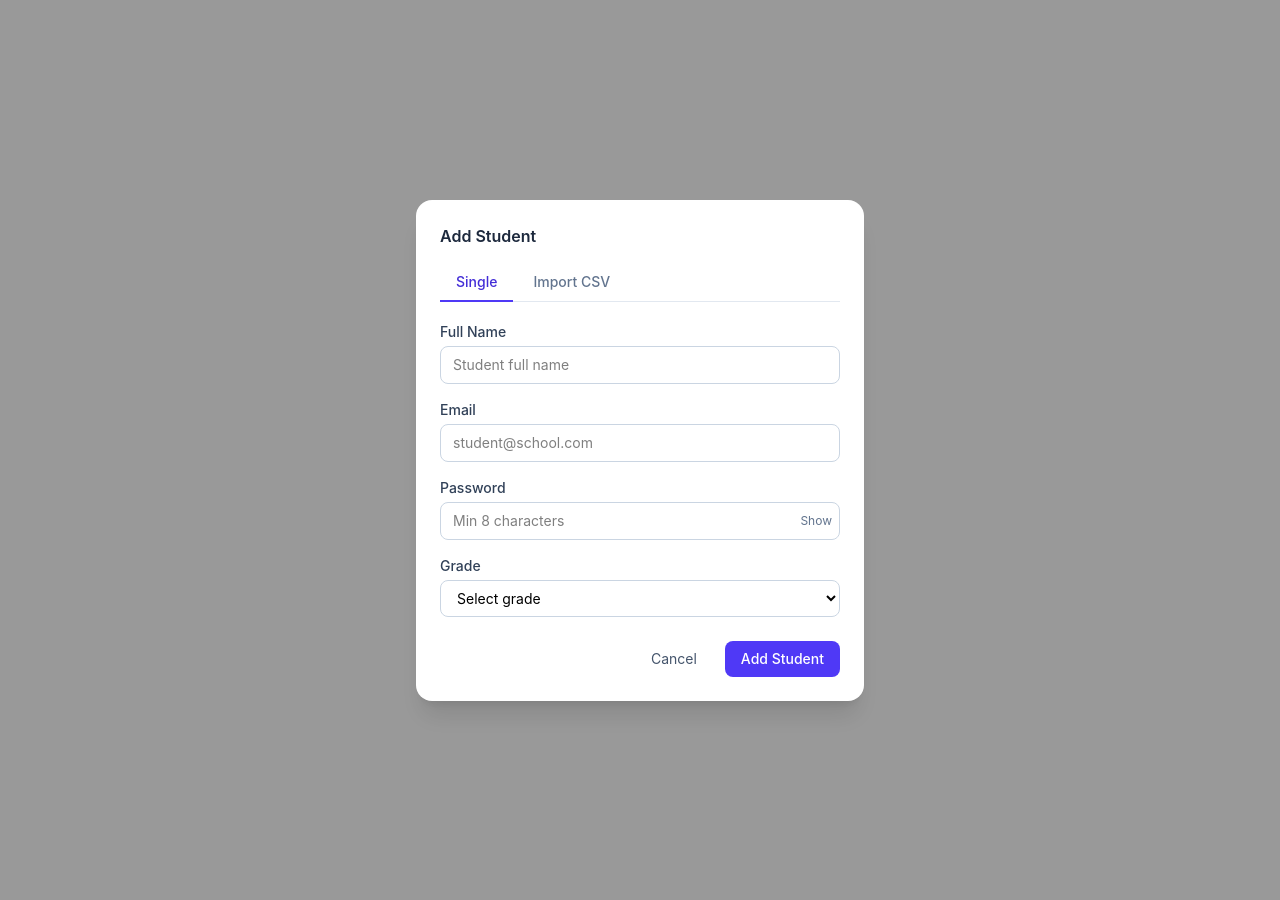
Test: AddStudentModal — Single tab › shows inline error when edge function returns an error
In the field labelled "Full Name": (640, 364) [440, 346, 840, 384], type "Aarav Shah"
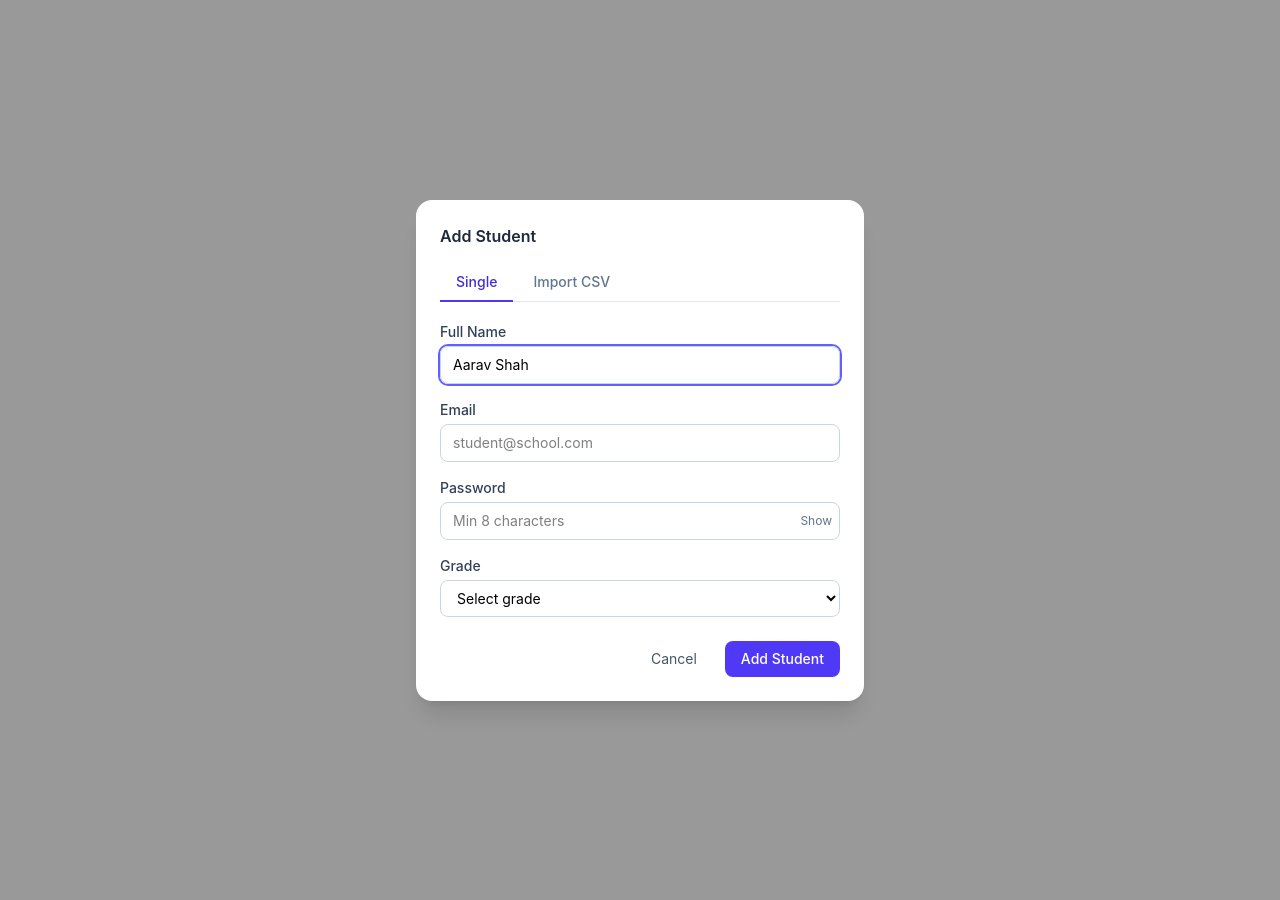
In the field labelled "Email": (640, 442) [440, 424, 840, 462], type "aarav@test.com"
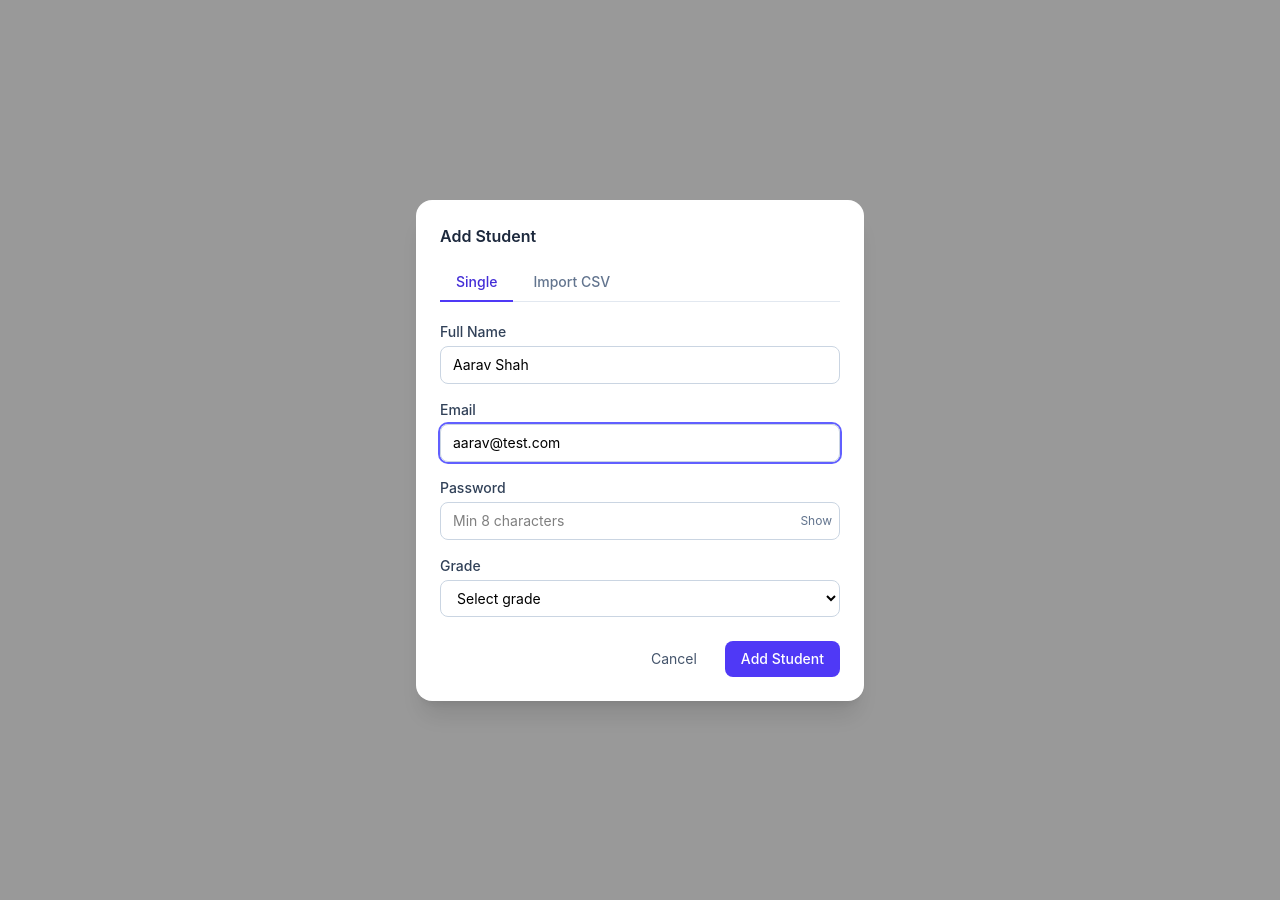
In the password field labelled "Password": (640, 520) [440, 502, 840, 540], type "secret123"
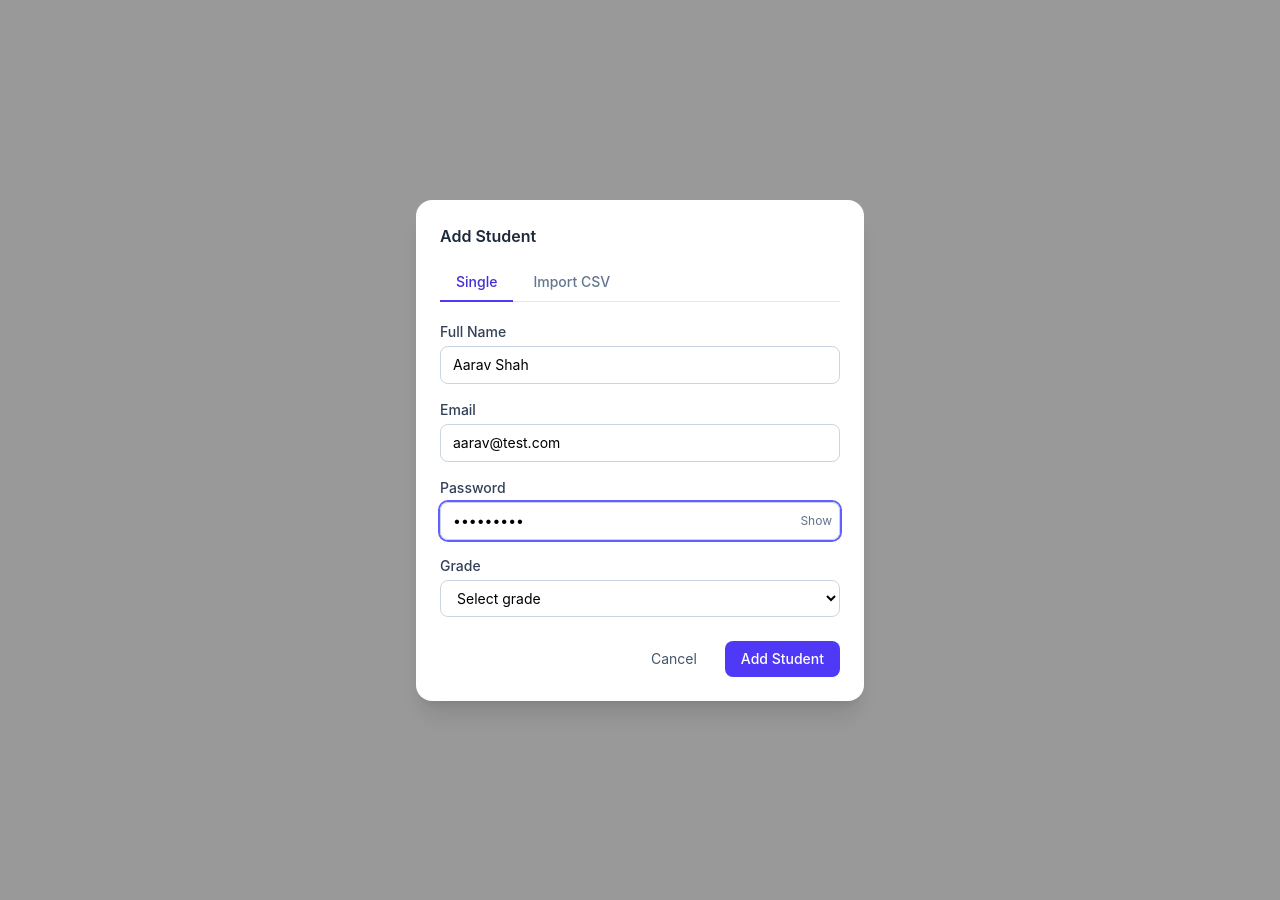
Select "Grade 10" in the dropdown labelled "Grade": (640, 598) [440, 580, 840, 616]
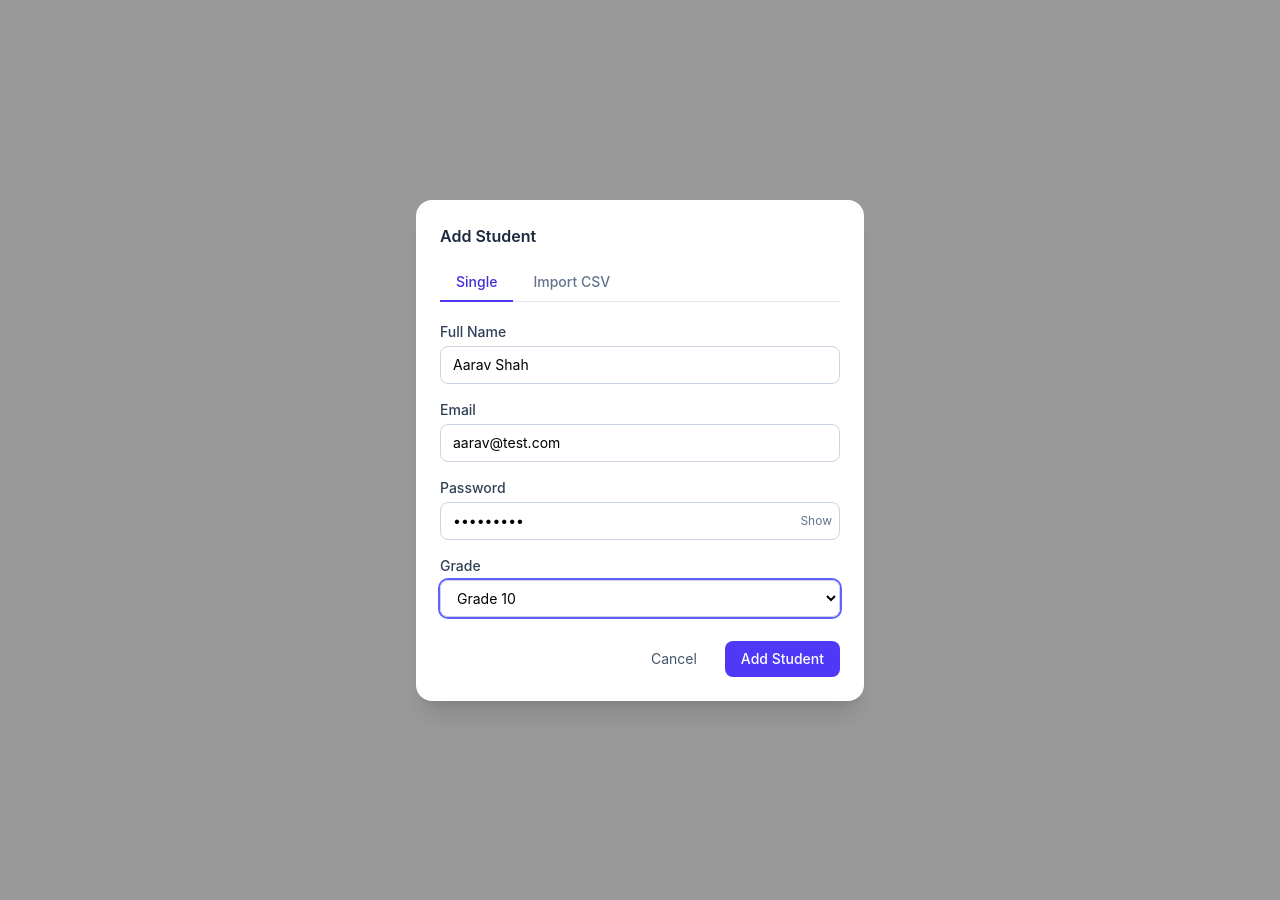
Click the button "Add Student": (782, 658) [725, 640, 840, 676]
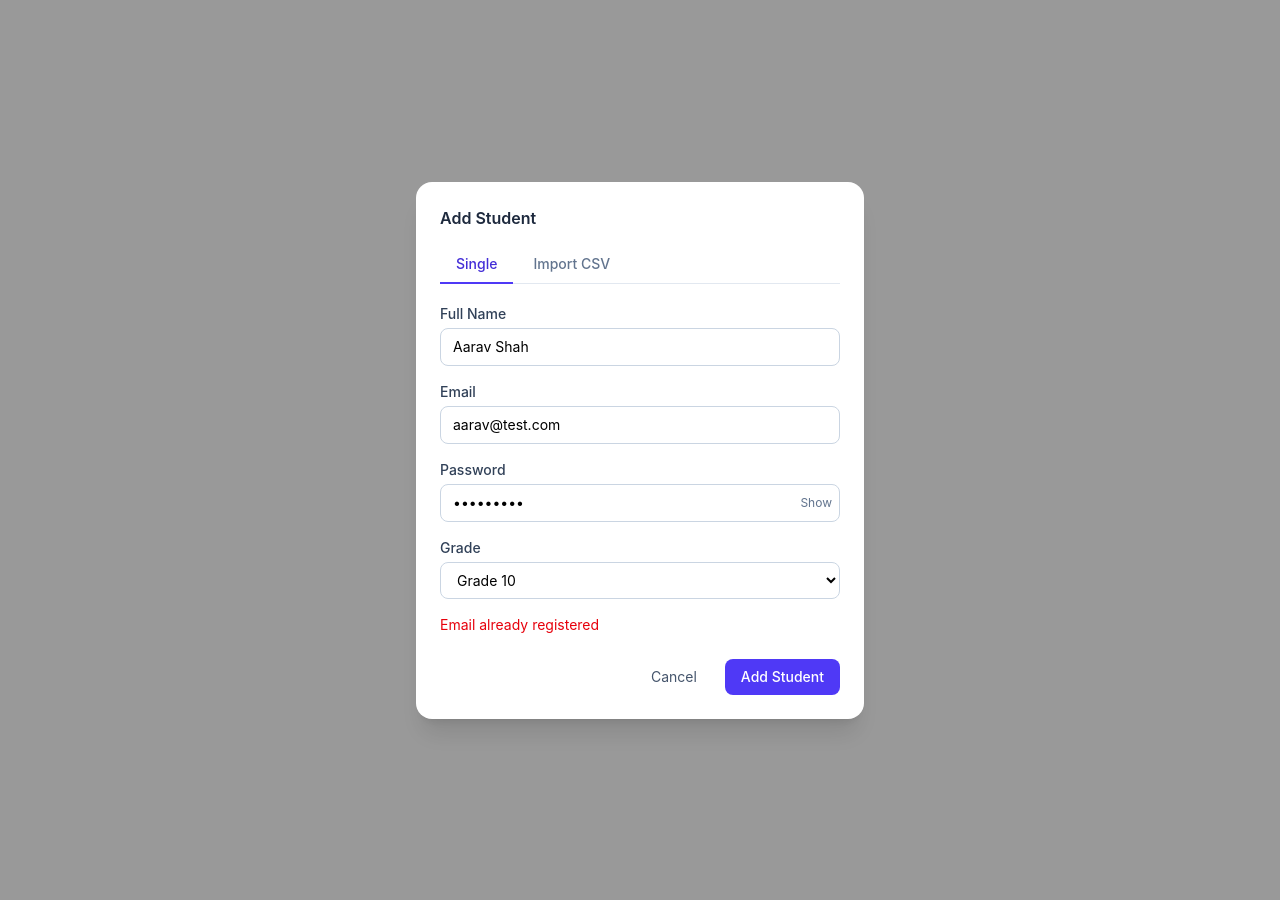
Result: the text "Email already registered" is shown at [440, 616, 599, 632]
